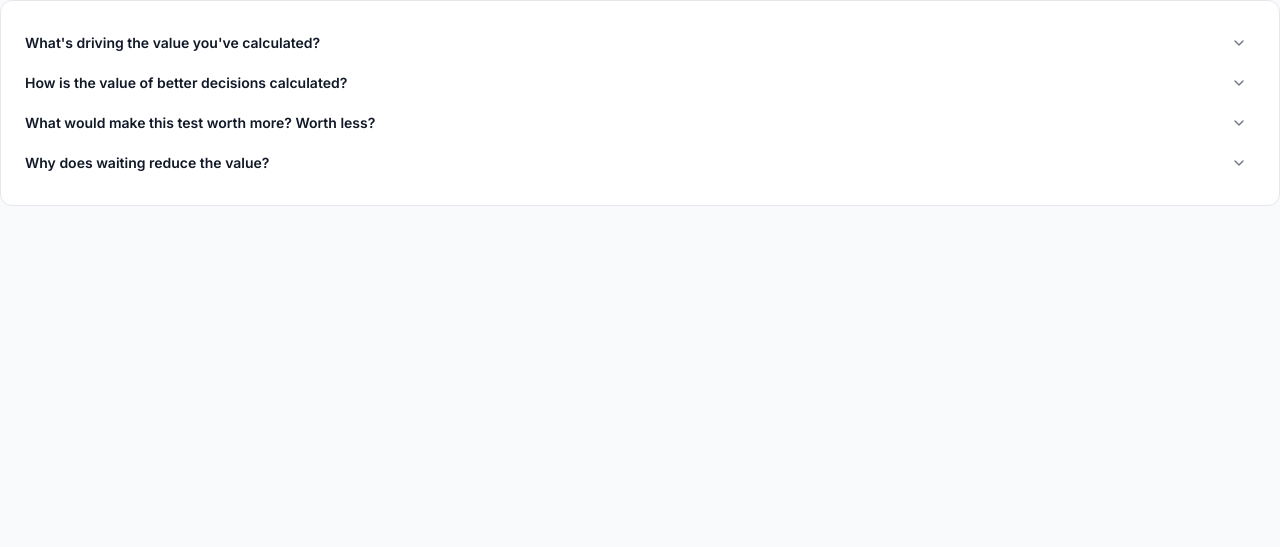
Scenario: FAQAccordion › Test 7: keyboard activation toggles independent accordion
The width and height of the screenshot is (1280, 547).
Click the button "What would make this test worth more? Worth less?": [200, 122] box [21, 105, 1251, 141]
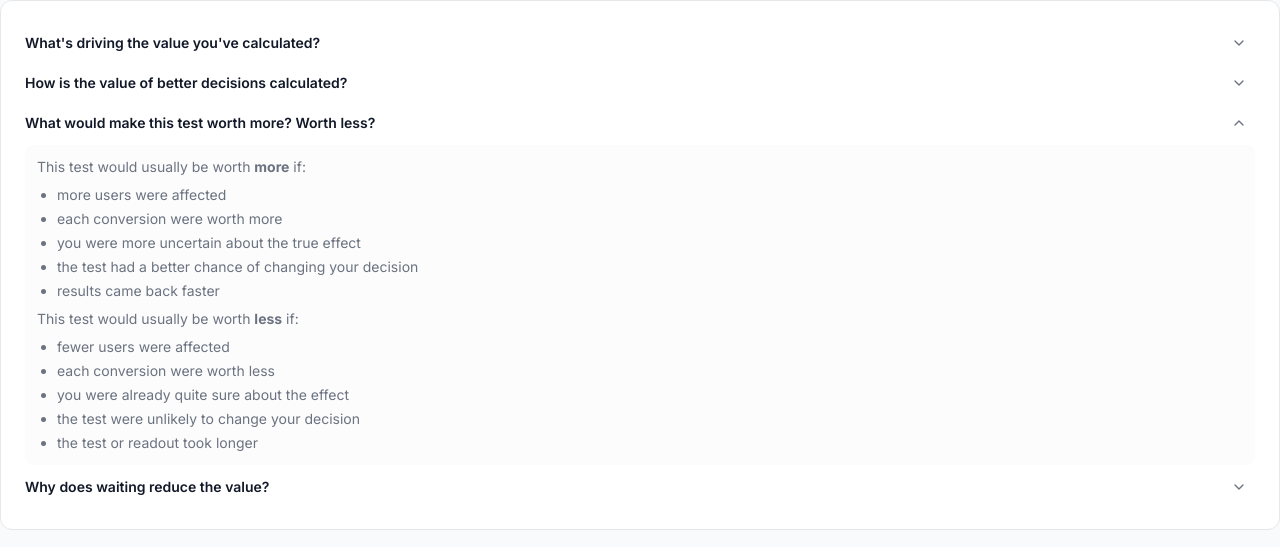
Expected: the button "What would make this test worth more? Worth less?" is expanded
Click the button "What would make this test worth more? Worth less?": [200, 122] box [21, 105, 1251, 141]
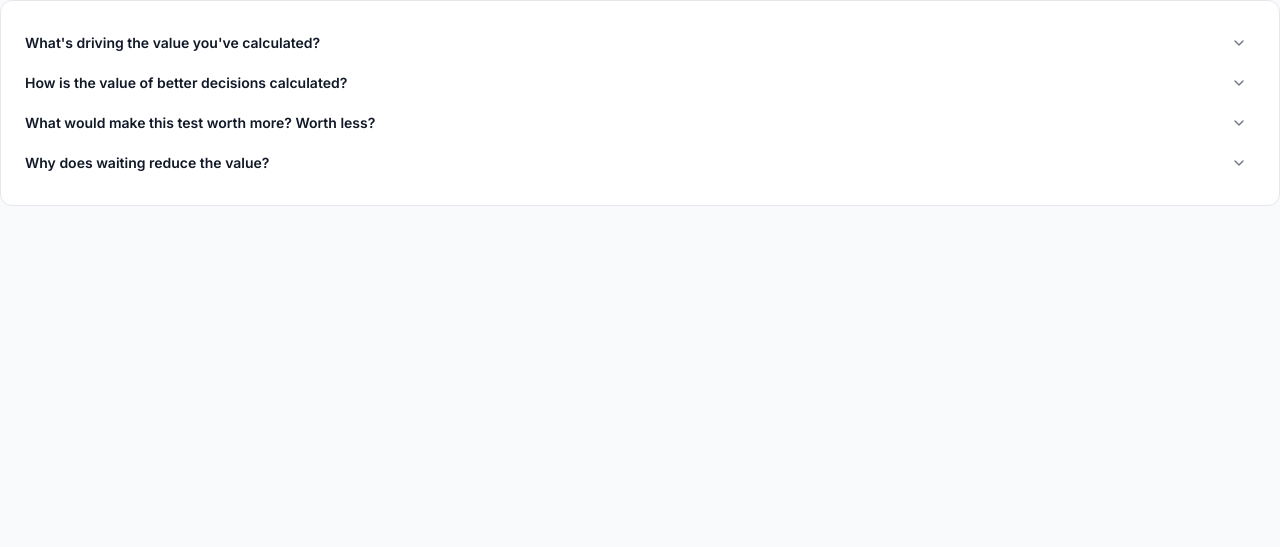
Expected: the button "What would make this test worth more? Worth less?" is collapsed, [21, 105, 1251, 141]
